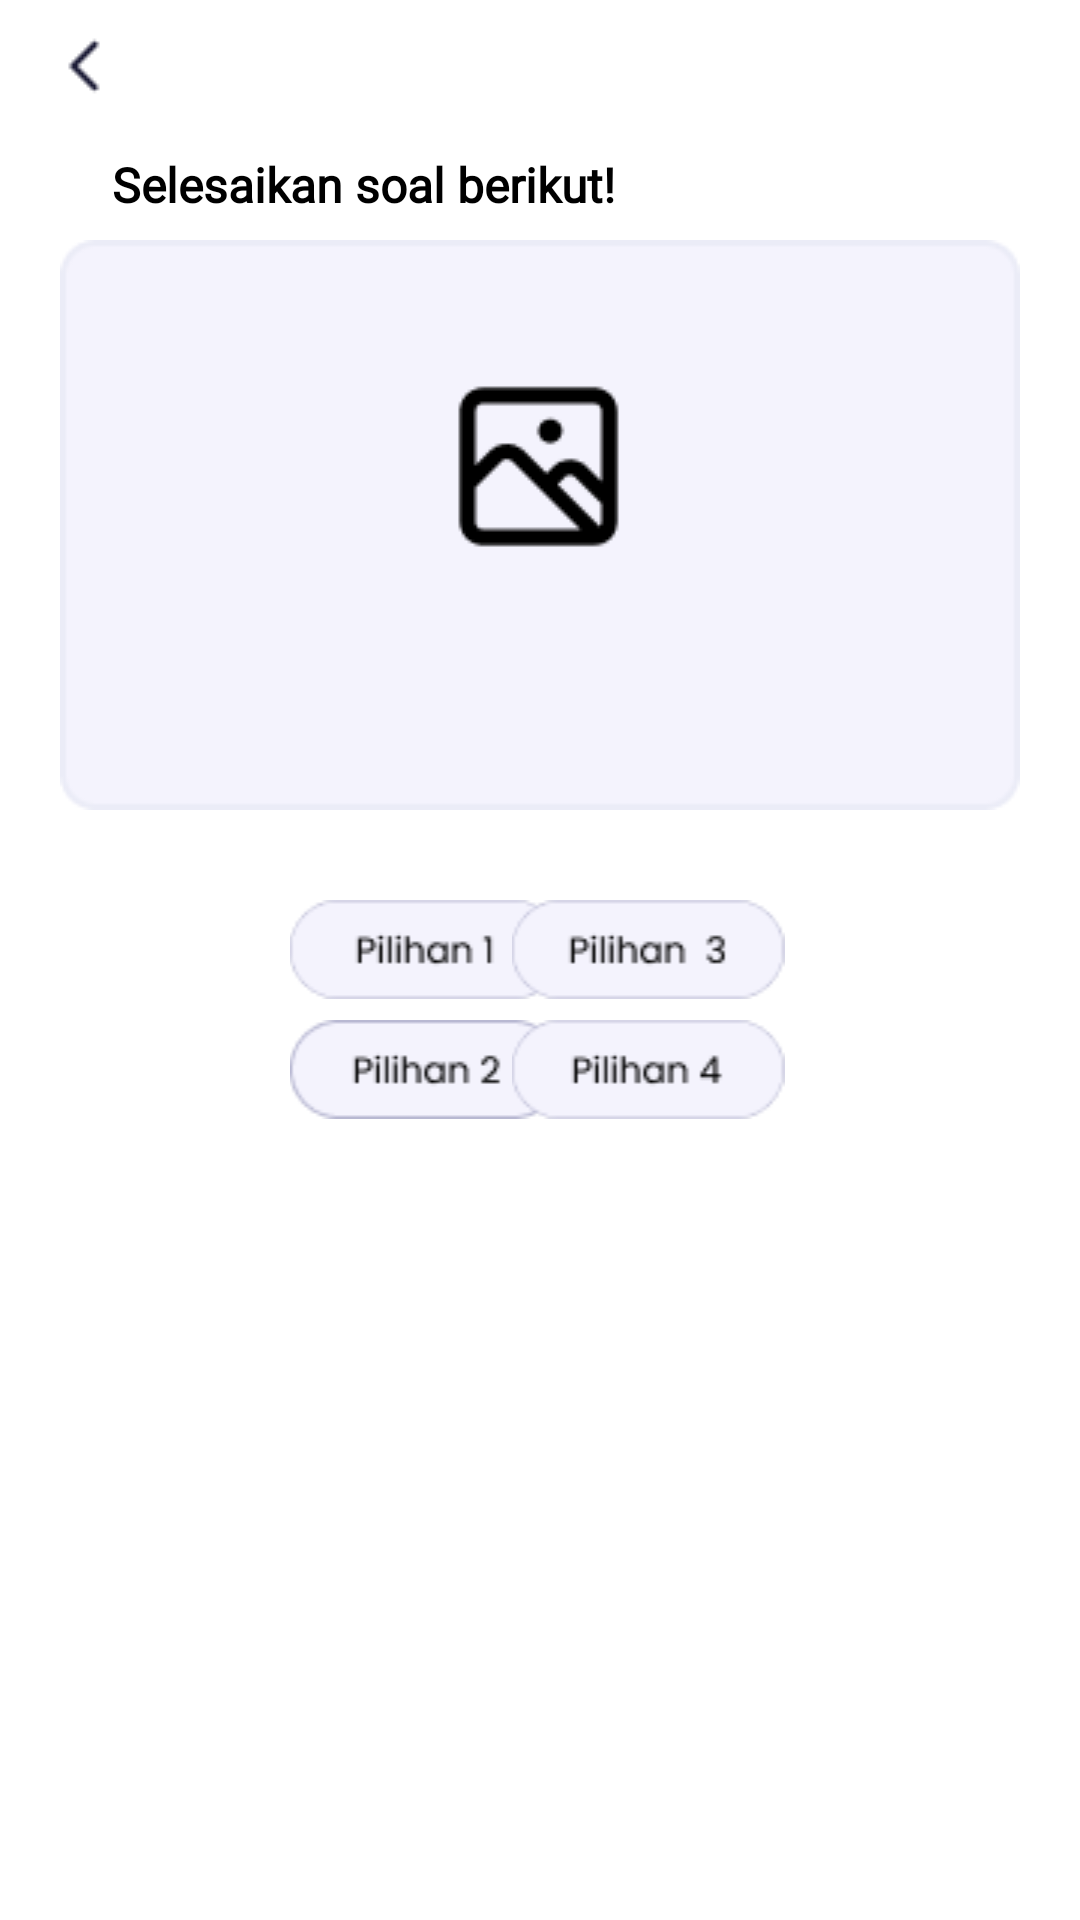

Icons on this 1080w x 1920h Android screen, each with its box as (x1, y1, x2, y2):
kelas navigation: (68, 39, 100, 92)
